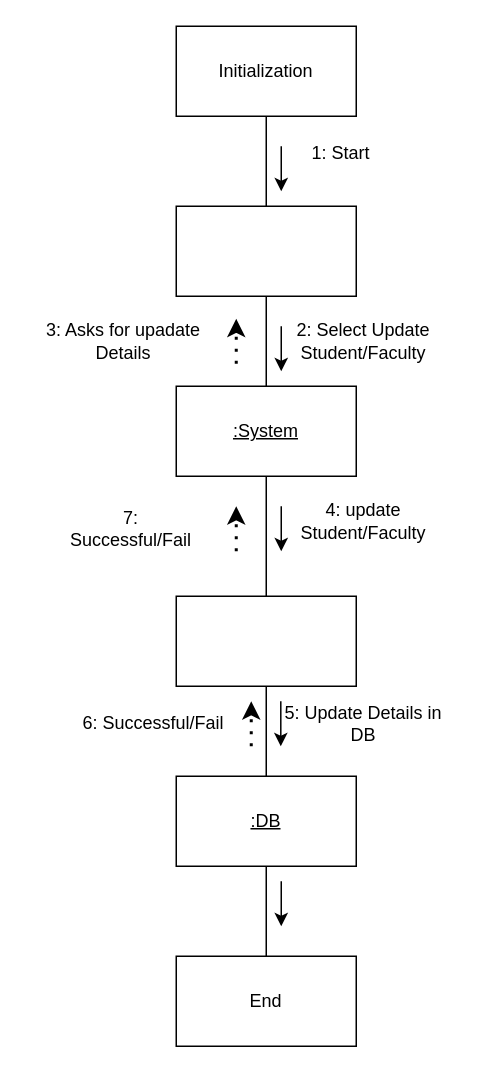
This 486x1073 diagram has some shape labels left out. Here are the shapes that lost their labels. From the top down, the centre of each, then its label:
At (x=265, y=250): ":Admin".
At (x=265, y=640): ":Facility".
